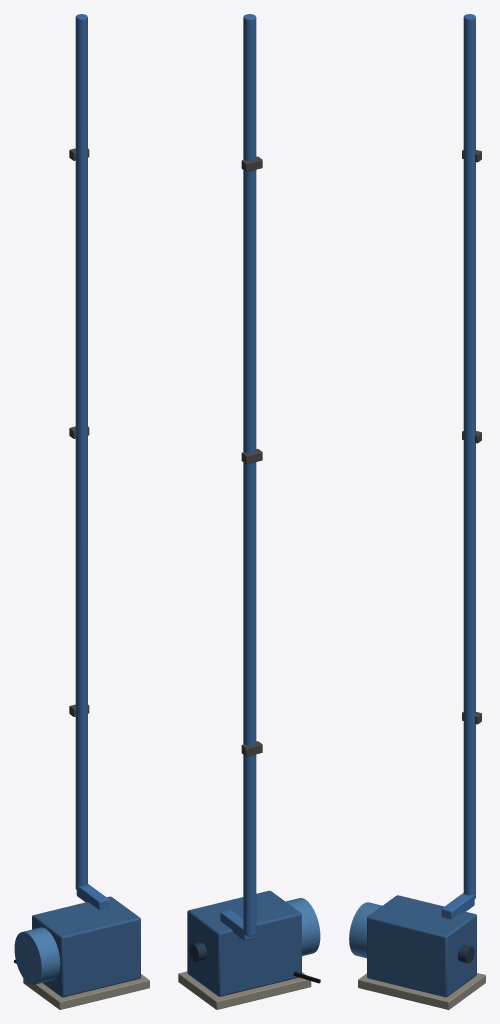
Rendered from MayBom_NuocGiengTroi.glb.
3 views of the same model, side by side, from view 1: azimuth 30°, elevation 25°; view 2: azimuth 210°, elevation 25°; view 3: azimuth 330°, elevation 25° (orthographic). The views are drawn at different scales.
Parts seen in each view (by area): view 1: MayBom_NuocGiengTroi; view 2: MayBom_NuocGiengTroi; view 3: MayBom_NuocGiengTroi.
Part boxes in pixels (x1,y1,x2,y2): MayBom_NuocGiengTroi: (14,14,149,1009); MayBom_NuocGiengTroi: (178,14,320,1009); MayBom_NuocGiengTroi: (349,14,485,1009).
Size of the model in its own units: 0.4 by 3.4 by 0.32.
